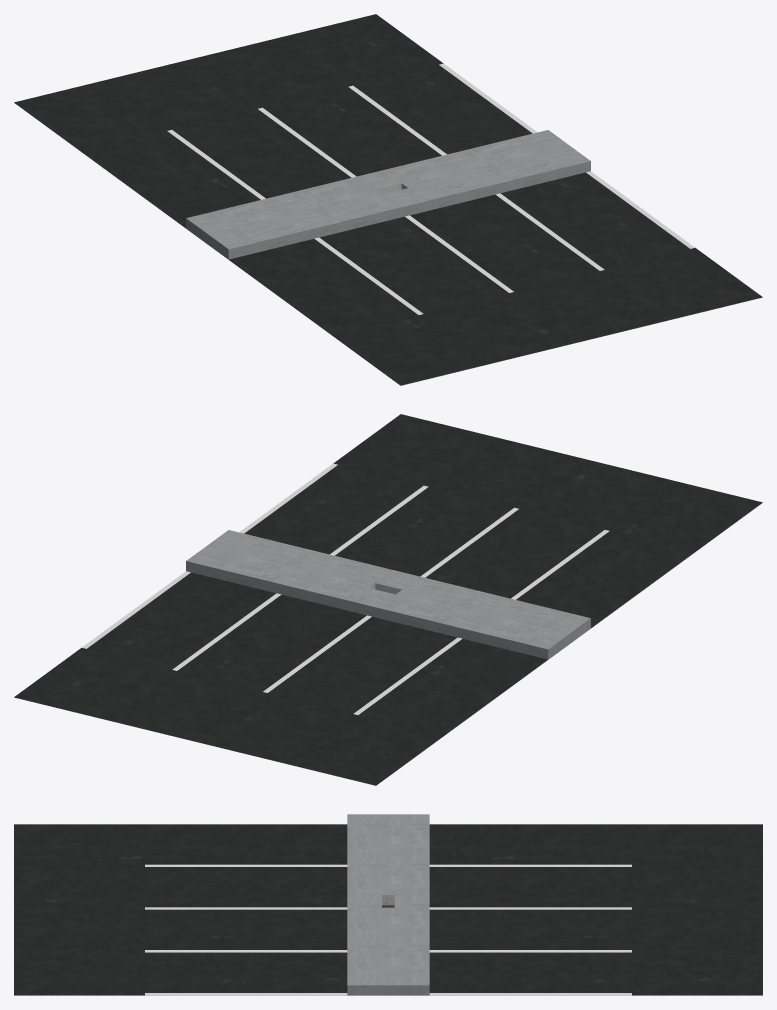
Rendered from env-cutout.glb.
The picture shows the model from 3 angles, top to bottom: view 1: azimuth 30°, elevation 25°; view 2: azimuth 150°, elevation 25°; view 3: azimuth 270°, elevation 25°; orthographic projection. The views are drawn at different scales.
Visible parts, largest first — view 1: road.001, curb.001, road parts.001; view 2: road.001, curb.001, road parts.001; view 3: road.001, curb.001, road parts.001.
Part boxes in pixels (bbox=[...]): road.001: bbox=[14, 14, 762, 385]; curb.001: bbox=[186, 130, 590, 259]; road parts.001: bbox=[14, 63, 762, 385]; road.001: bbox=[14, 414, 762, 785]; curb.001: bbox=[186, 530, 590, 659]; road parts.001: bbox=[14, 463, 762, 785]; road.001: bbox=[14, 824, 762, 995]; curb.001: bbox=[347, 814, 429, 995]; road parts.001: bbox=[14, 864, 762, 995].
Size of the model in its own units: 10.8 by 0.8002 by 19.98.
4 materials, 3 textured.
